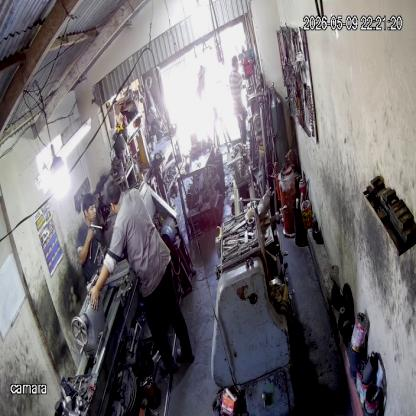sin_lentes: (86, 204, 97, 214)
